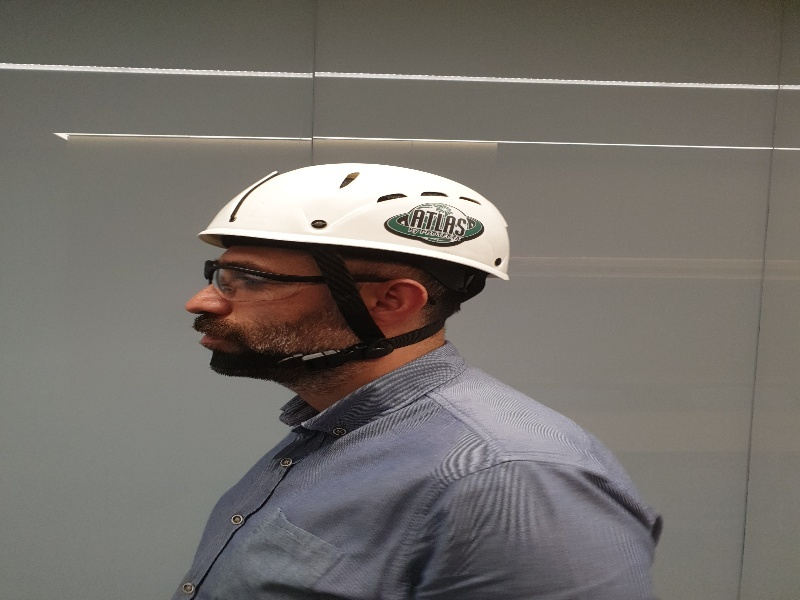Baret: (192, 161, 517, 262)
Gozluk: (199, 257, 407, 298)
